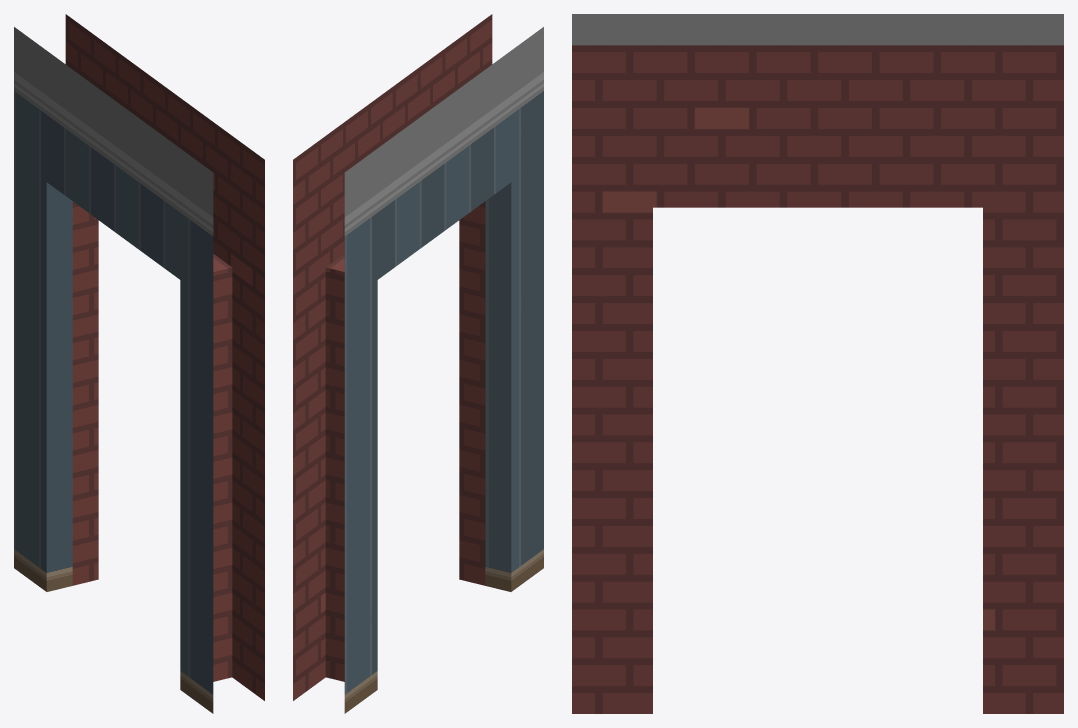
The model's file is SM_wallDoor_01_half.glb.
3 renders of one model, left to right at view 1: azimuth 30°, elevation 25°; view 2: azimuth 150°, elevation 25°; view 3: azimuth 270°, elevation 25°, orthographic. The views are drawn at different scales.
Visible parts, largest first — view 1: SM_wallDoor_01_half; view 2: SM_wallDoor_01_half; view 3: SM_wallDoor_01_half.
Part boxes in pixels (x1=…): SM_wallDoor_01_half: x1=14, y1=14, x2=264, y2=713; SM_wallDoor_01_half: x1=293, y1=14, x2=543, y2=713; SM_wallDoor_01_half: x1=572, y1=14, x2=1063, y2=713.
Bounding box in the file's own units: 0.3 × 3 × 2.
2 materials, 2 textured.
